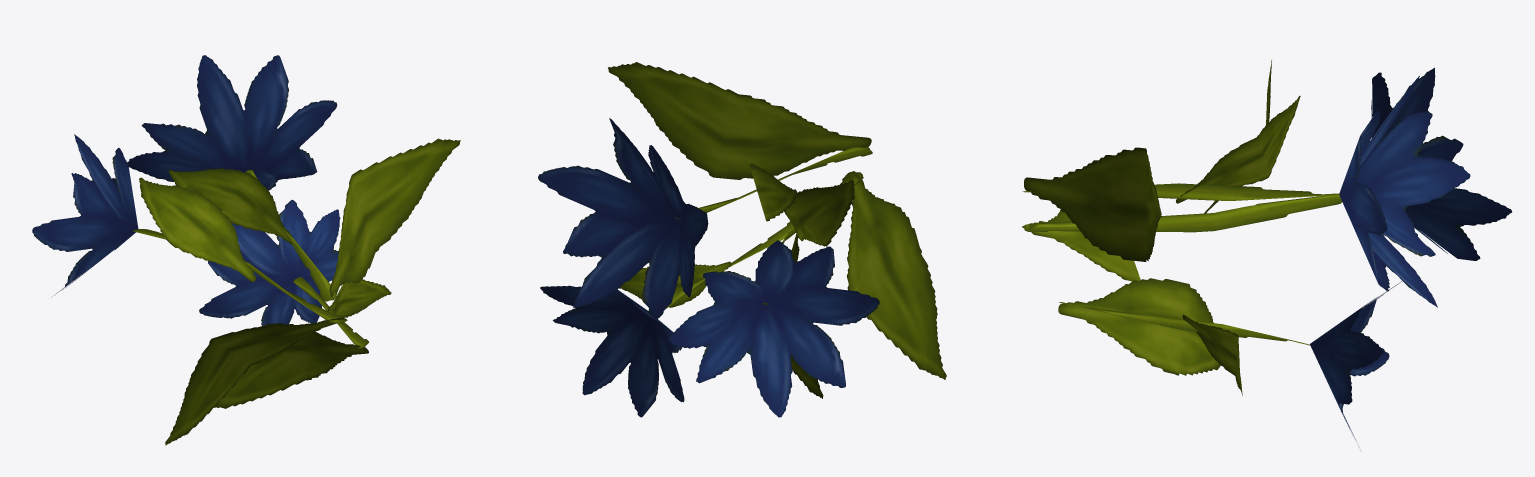
The model's file is flowers_blue.fbx.
The picture shows the model from 3 angles, left to right: view 1: azimuth 30°, elevation 25°; view 2: azimuth 150°, elevation 25°; view 3: azimuth 270°, elevation 25°; orthographic projection. The views are drawn at different scales.
Parts seen in each view (by area): view 1: flower_blue_group; view 2: flower_blue_group; view 3: flower_blue_group.
Part boxes in pixels (x1,y1,x2,y2): flower_blue_group: (32, 55, 460, 445); flower_blue_group: (538, 62, 946, 417); flower_blue_group: (1022, 60, 1511, 451).
Bounding box in the file's own units: 3.42 × 3.03 × 3.38.
